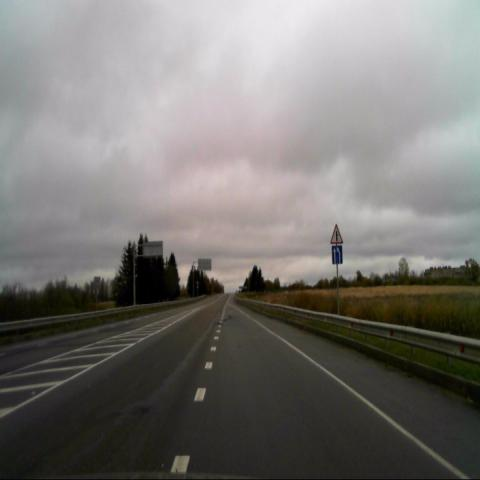2_3_2: (330, 222, 344, 245)
5_15_5: (332, 245, 343, 263)
